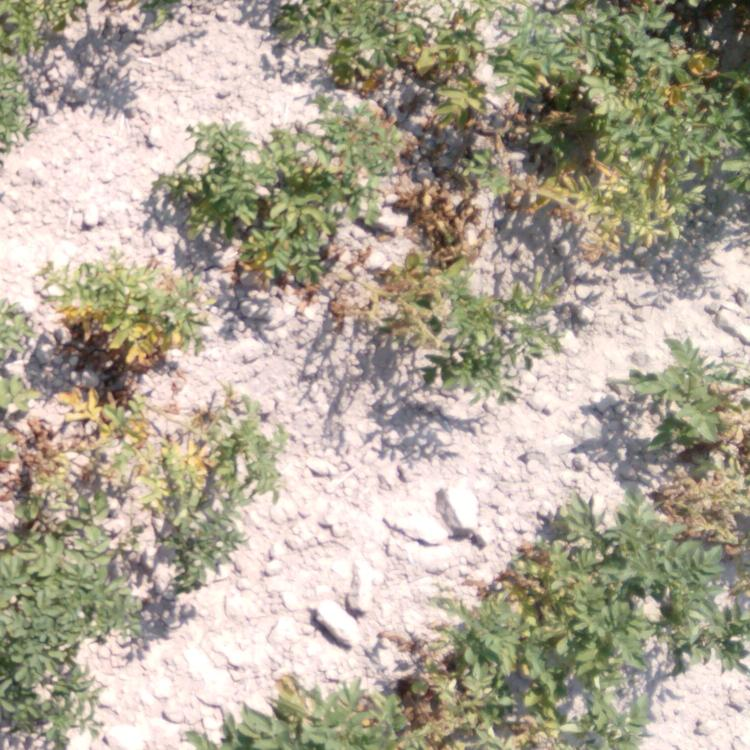healthy: (513, 514, 714, 657), (6, 517, 99, 747), (489, 8, 676, 57), (222, 690, 380, 747), (4, 1, 56, 140)
stressed: (349, 120, 487, 353), (521, 64, 681, 256), (304, 1, 485, 110), (146, 405, 237, 606), (176, 167, 329, 286), (68, 264, 156, 429), (395, 639, 511, 744), (660, 378, 743, 507), (10, 388, 70, 494)
